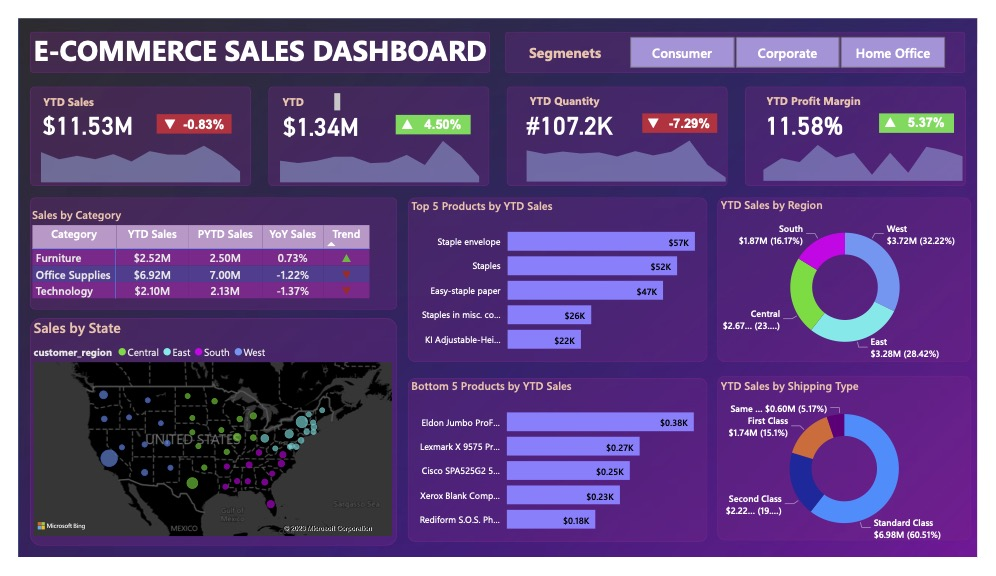

What the dashboard file says about the page in this screenshot:
{"tool":"powerbi","page":{"name":"Page 1","canvas":[1280,720],"ordinal":0},"visuals":[{"type":"shape","box":[15.6,18.2,614.7,54.6],"z":0},{"type":"shape","box":[333.6,91,295,132.5],"z":1000},{"type":"textbox","box":[15.6,11.7,625.1,67.6],"z":2000},{"type":"card","fields":{"Values":["MeasuresTable.YTD Profit"]},"box":[339.2,119.6,129.9,45.5],"z":3000},{"type":"shape","box":[15.6,91,295,132.5],"z":4000},{"type":"areaChart","fields":{"Category":["Date.Month"],"Y":["Sum(ecommerce_data.profit_per_order)"]},"box":[335,148.4,295,75.4],"z":5000},{"type":"card","fields":{"Values":["MeasuresTable.YTD Sales"]},"box":[24.9,121,136.2,40],"z":6000},{"type":"shape","box":[503.9,128.7,100.1,26],"z":7000},{"type":"areaChart","fields":{"Category":["Date.Month"],"Y":["Sum(ecommerce_data.sales_per_order)"]},"box":[15.6,148.1,295,75.4],"z":8000},{"type":"card","fields":{"Values":["MeasuresTable.YoY Profit"]},"box":[529.9,125,74.1,33.8],"z":9000},{"type":"card","fields":{"Values":["MeasuresTable.Profit Icon"]},"box":[482.5,125,73.8,33.8],"z":10000},{"type":"shape","box":[184.5,128.4,100.1,26],"z":11000},{"type":"card","fields":{"Values":["MeasuresTable.YoY Sales"]},"box":[210.5,124.9,74.1,33.8],"z":12000},{"type":"textbox","box":[348.5,94.8,86.4,33.6],"z":13000},{"type":"card","fields":{"Values":["MeasuresTable.Sales Icon"]},"box":[165.6,124.7,74.1,34.1],"z":14000},{"type":"textbox","box":[29.1,94.5,86.4,33.6],"z":15000},{"type":"shape","box":[651.7,91.1,295,132.5],"z":16000},{"type":"card","fields":{"Values":["MeasuresTable.YTD Concatenated Qty"]},"box":[671.2,118.1,130,46.2],"z":17000},{"type":"areaChart","fields":{"Category":["Date.Month"],"Y":["Sum(ecommerce_data.order_quantity)"]},"box":[663.8,147.2,295,75.4],"z":18000},{"type":"shape","box":[832.7,127.4,100.1,26],"z":19000},{"type":"card","fields":{"Values":["MeasuresTable.YoY Qty"]},"box":[858.7,124.3,74.1,33.8],"z":20000},{"type":"card","fields":{"Values":["MeasuresTable.Qty Icon"]},"box":[811.2,124.2,74.1,34.1],"z":21000},{"type":"textbox","box":[677.5,93.8,115,33.8],"z":22000},{"type":"shape","box":[969.8,91.1,295,132.5],"z":23000},{"type":"card","fields":{"Values":["MeasuresTable.YTD Profit Margin"]},"box":[983.7,118.3,129.9,45.5],"z":24000},{"type":"areaChart","fields":{"Category":["Date.Month"],"Y":["MeasuresTable.Profit Margin"]},"box":[979.8,146.7,295,75.4],"z":25000},{"type":"shape","box":[1148.7,126.9,100.1,26],"z":26000},{"type":"card","fields":{"Values":["MeasuresTable.YoY Profit Margin"]},"box":[1174.7,123.1,74.1,33.8],"z":27000},{"type":"card","fields":{"Values":["MeasuresTable.Profit Margin Icon"]},"box":[1127.2,123,73.9,33.9],"z":28000},{"type":"textbox","box":[994.1,93.6,154.6,33.8],"z":29000},{"type":"shape","box":[15.6,239.1,489.9,149.4],"z":30000},{"type":"pivotTable","title":"Sales by Category","fields":{"Rows":["ecommerce_data.category_name"],"Values":["MeasuresTable.YTD Sales","MeasuresTable.PYTD Sales","MeasuresTable.YoY Sales","MeasuresTable.Sales Icon"]},"box":[14.3,250.8,467.8,149.4],"z":31000},{"type":"shape","box":[15.6,400.2,489.9,304.1],"z":32000},{"type":"map","title":"Sales by State","fields":{"Y":["us_state_long_lat_codes.latitude"],"X":["us_state_long_lat_codes.longitude"],"Size":["MeasuresTable.YTD Sales"],"Series":["ecommerce_data.customer_region"]},"box":[15.6,400.2,488.6,296.3],"z":33000},{"type":"shape","box":[519.8,239.1,400.2,220],"z":34000},{"type":"shape","box":[519.8,479.5,400.2,219.6],"z":35000},{"type":"barChart","title":"Top 5 Products by YTD Sales","fields":{"Category":["ecommerce_data.product_name"],"Y":["MeasuresTable.YTD Sales"]},"box":[519.8,238.9,401.5,220.7],"z":36000},{"type":"barChart","title":"Bottom 5 Products by YTD Sales","fields":{"Category":["ecommerce_data.product_name"],"Y":["MeasuresTable.YTD Sales"]},"box":[519.8,479.5,400.2,220.9],"z":37000},{"type":"shape","box":[933,239.1,339.2,219.6],"z":38000},{"type":"shape","box":[933,476.9,339.2,219.6],"z":39000},{"type":"donutChart","title":"YTD Sales by Region","fields":{"Category":["ecommerce_data.customer_region"],"Y":["MeasuresTable.YTD Sales"]},"box":[933,237.8,340.5,222.2],"z":39001},{"type":"donutChart","title":"YTD Sales by Shipping Type","fields":{"Y":["MeasuresTable.YTD Sales"],"Category":["ecommerce_data.shipping_type"]},"box":[933,479.5,339.2,222.2],"z":39002},{"type":"shape","box":[649.7,18.2,614.7,54.6],"z":39003},{"type":"slicer","fields":{"Values":["ecommerce_data.customer_segment"]},"box":[791.4,18.2,469.1,54.6],"z":39004},{"type":"textbox","box":[677,27.3,114.4,46.8],"z":39005}]}

Visuals, with their boxes in screenshot pixels (x1, y1, x2, y2), scaled from the page's 1280x720 canvas onto the 996x576 screenshot:
shape: box=[12, 15, 490, 58]
shape: box=[260, 73, 489, 179]
textbox: box=[12, 9, 499, 63]
card - MeasuresTable.YTD Profit: box=[264, 96, 365, 132]
shape: box=[12, 73, 242, 179]
areaChart - Date.Month x Sum(ecommerce_data.profit_per_order): box=[261, 119, 490, 179]
card - MeasuresTable.YTD Sales: box=[19, 97, 125, 129]
shape: box=[392, 103, 470, 124]
areaChart - Date.Month x Sum(ecommerce_data.sales_per_order): box=[12, 118, 242, 179]
card - MeasuresTable.YoY Profit: box=[412, 100, 470, 127]
card - MeasuresTable.Profit Icon: box=[375, 100, 433, 127]
shape: box=[144, 103, 221, 124]
card - MeasuresTable.YoY Sales: box=[164, 100, 221, 127]
textbox: box=[271, 76, 338, 103]
card - MeasuresTable.Sales Icon: box=[129, 100, 187, 127]
textbox: box=[23, 76, 90, 102]
shape: box=[507, 73, 737, 179]
card - MeasuresTable.YTD Concatenated Qty: box=[522, 94, 623, 131]
areaChart - Date.Month x Sum(ecommerce_data.order_quantity): box=[517, 118, 746, 178]
shape: box=[648, 102, 726, 123]
card - MeasuresTable.YoY Qty: box=[668, 99, 726, 126]
card - MeasuresTable.Qty Icon: box=[631, 99, 689, 127]
textbox: box=[527, 75, 617, 102]
shape: box=[755, 73, 984, 179]
card - MeasuresTable.YTD Profit Margin: box=[765, 95, 867, 131]
areaChart - Date.Month x MeasuresTable.Profit Margin: box=[762, 117, 992, 178]
shape: box=[894, 102, 972, 122]
card - MeasuresTable.YoY Profit Margin: box=[914, 98, 972, 126]
card - MeasuresTable.Profit Margin Icon: box=[877, 98, 935, 126]
textbox: box=[774, 75, 894, 102]
shape: box=[12, 191, 393, 311]
"Sales by Category" pivotTable: box=[11, 201, 375, 320]
shape: box=[12, 320, 393, 563]
"Sales by State" map: box=[12, 320, 392, 557]
shape: box=[404, 191, 716, 367]
shape: box=[404, 384, 716, 559]
"Top 5 Products by YTD Sales" barChart: box=[404, 191, 717, 368]
"Bottom 5 Products by YTD Sales" barChart: box=[404, 384, 716, 560]
shape: box=[726, 191, 990, 367]
shape: box=[726, 382, 990, 557]
"YTD Sales by Region" donutChart: box=[726, 190, 991, 368]
"YTD Sales by Shipping Type" donutChart: box=[726, 384, 990, 561]
shape: box=[506, 15, 984, 58]
slicer - ecommerce_data.customer_segment: box=[616, 15, 981, 58]
textbox: box=[527, 22, 616, 59]
